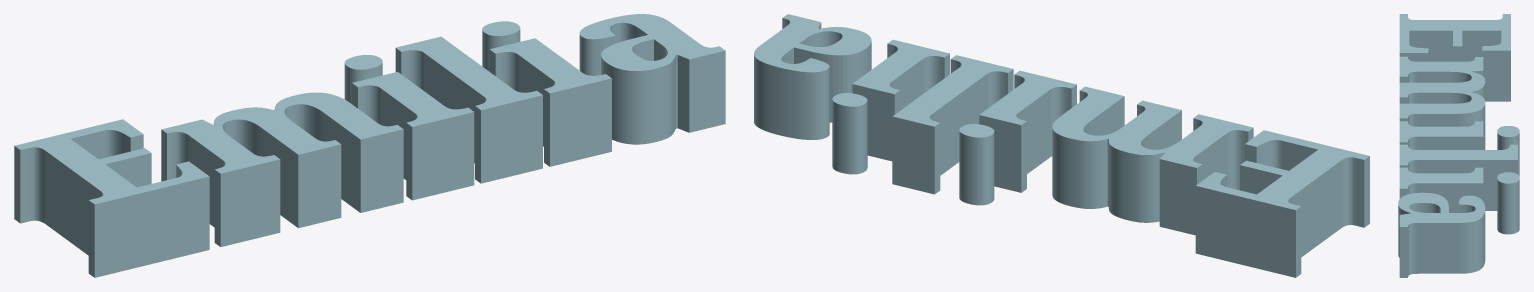
File: Magnificent Albar-Bigery (7).glb
3 renders of one model, left to right at view 1: azimuth 30°, elevation 25°; view 2: azimuth 150°, elevation 25°; view 3: azimuth 270°, elevation 25°, orthographic. The views are drawn at different scales.
Visible parts, largest first — view 1: Mesh_Mesh_head_geo.001_lambert2SG.001; view 2: Mesh_Mesh_head_geo.001_lambert2SG.001; view 3: Mesh_Mesh_head_geo.001_lambert2SG.001.
Part boxes in pixels (left/top/right/bottom): Mesh_Mesh_head_geo.001_lambert2SG.001: left=14, top=14, right=725, bottom=277; Mesh_Mesh_head_geo.001_lambert2SG.001: left=754, top=14, right=1369, bottom=277; Mesh_Mesh_head_geo.001_lambert2SG.001: left=1398, top=14, right=1519, bottom=277.
Size of the model in its own units: 0.0899 by 0.01 by 0.0216.
